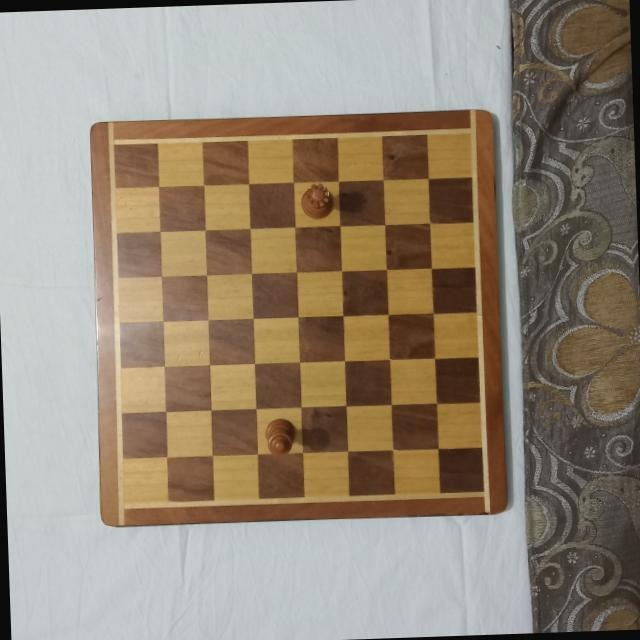white-king: (264, 418, 296, 457)
white-queen: (298, 181, 333, 220)
